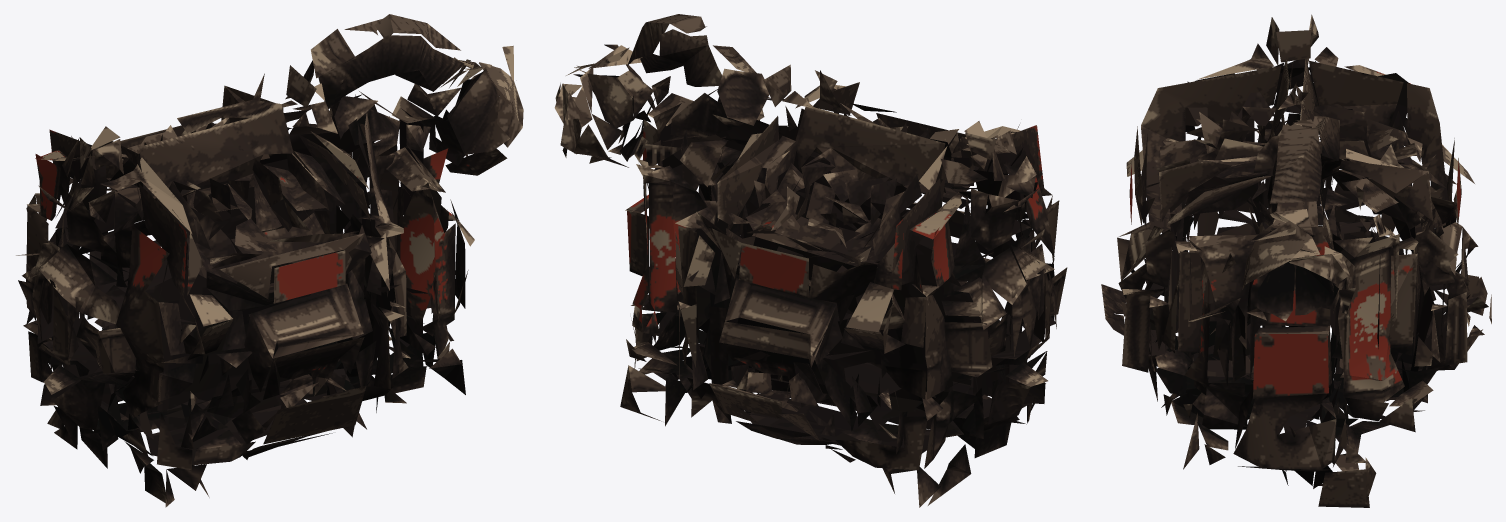
File: mo_leech.glb
The picture shows the model from 3 angles, left to right: view 1: azimuth 30°, elevation 25°; view 2: azimuth 150°, elevation 25°; view 3: azimuth 270°, elevation 25°; orthographic projection. The views are drawn at different scales.
Parts seen in each view (by area): view 1: mo_leech; view 2: mo_leech; view 3: mo_leech.
Boxes of the visible parts, box(x1,y1,x2,y2) form: mo_leech: box(16, 14, 523, 507); mo_leech: box(554, 14, 1067, 507); mo_leech: box(1101, 14, 1491, 507).
Size of the model in its own units: 0.199 by 0.1525 by 0.1455.
1 material, 1 textured.
